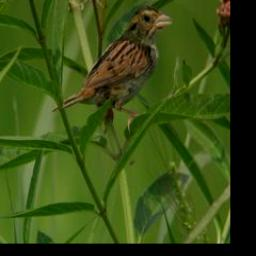Sparrow: (48, 3, 175, 139)
